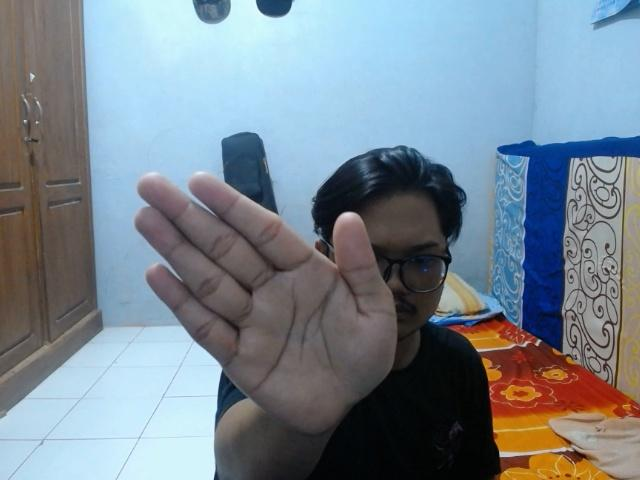Release: (119, 163, 403, 440)
